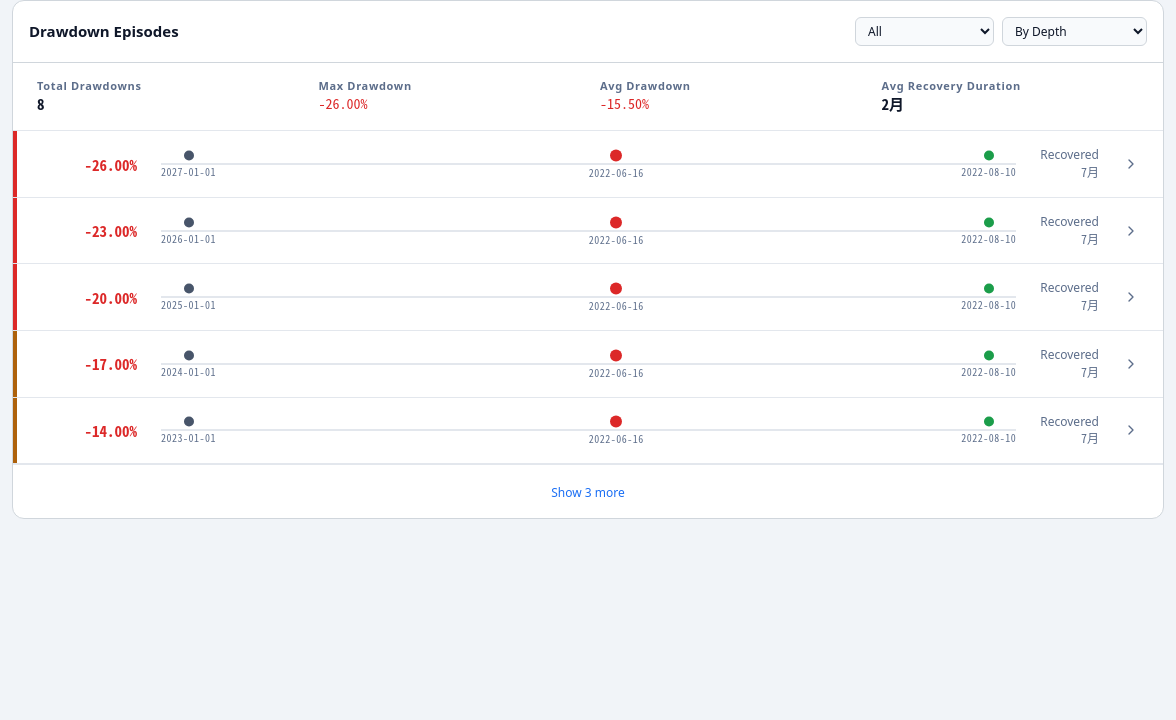
Test case: DrawdownEpisodes › Show more 按钮加载更多
Expected: the text "Recovered" is shown 5 times, 1040,147 -> 1099,164; 1040,214 -> 1099,231; 1040,280 -> 1099,297; 1040,347 -> 1099,364; 1040,414 -> 1099,430
Click the button with test id "show-more-episodes" at (588, 494), box 551,485 -> 625,502
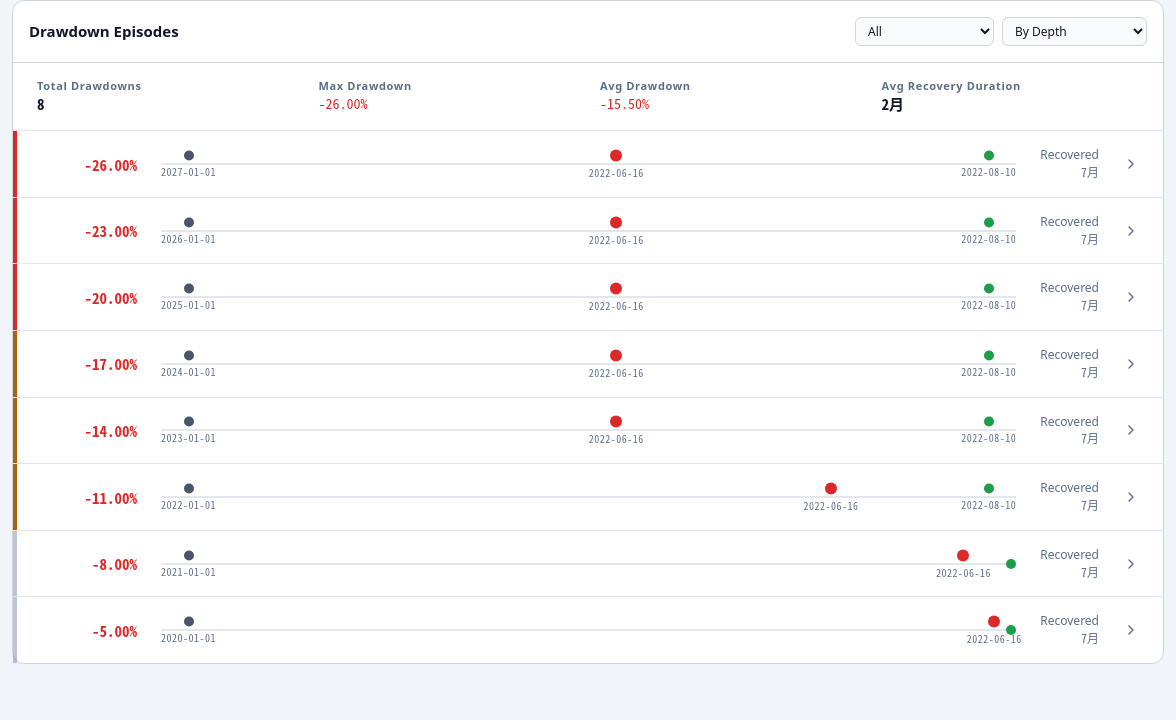
Result: the text "Recovered" is shown 8 times
